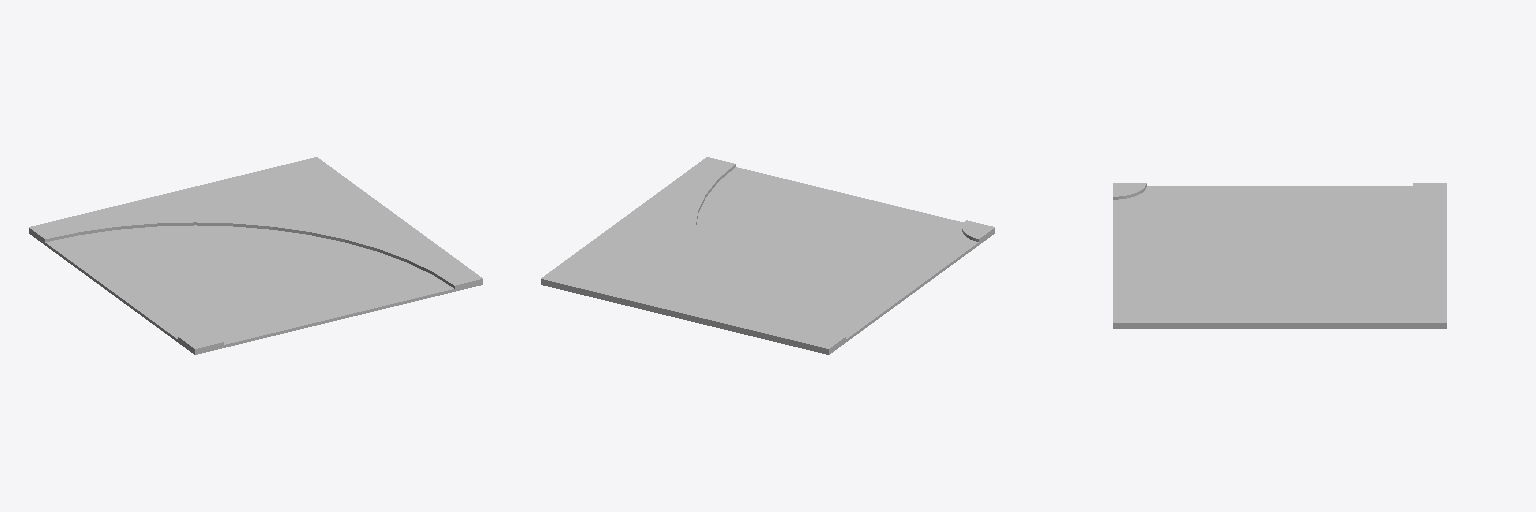
File: road_bendSidewalk.obj
3 views of the same model, side by side, from view 1: azimuth 30°, elevation 25°; view 2: azimuth 150°, elevation 25°; view 3: azimuth 270°, elevation 25° (orthographic).
Parts seen in each view (by area): view 1: road_bendSidewalk; view 2: road_bendSidewalk; view 3: road_bendSidewalk.
Part boxes in pixels (x1,y1,x2,y2): road_bendSidewalk: (29, 157, 482, 354); road_bendSidewalk: (541, 157, 994, 354); road_bendSidewalk: (1113, 183, 1446, 328).
Size of the model in its own units: 1 by 0.02 by 1.